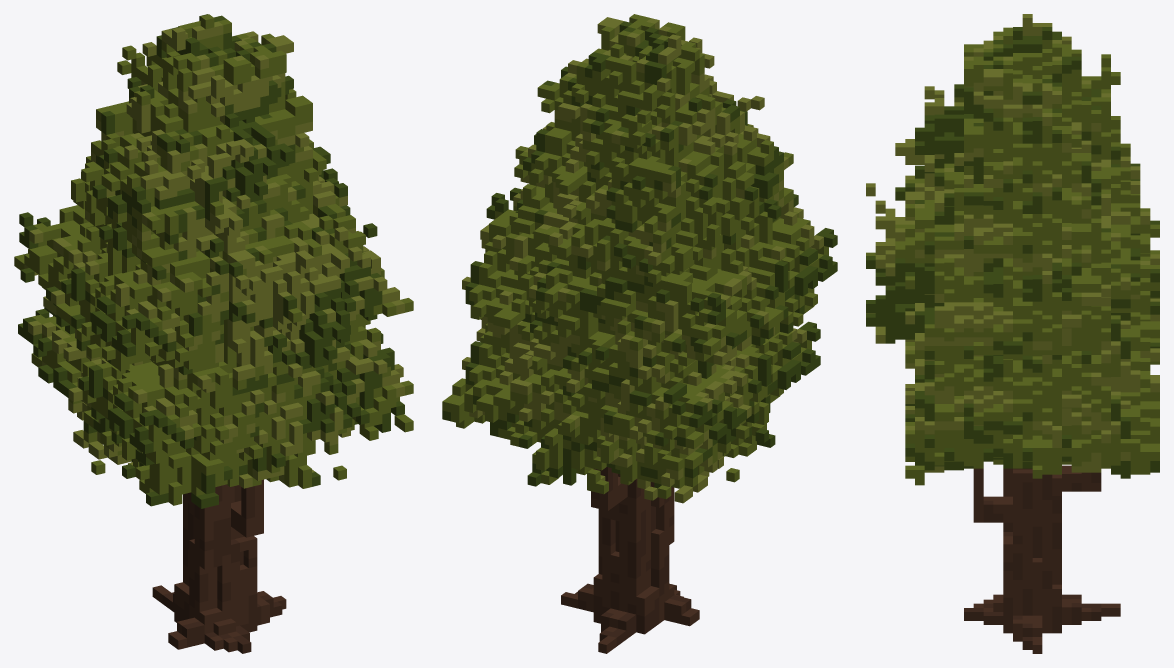
Rendered from Hospital-33.obj.
The picture shows the model from 3 angles, left to right: view 1: azimuth 30°, elevation 25°; view 2: azimuth 150°, elevation 25°; view 3: azimuth 270°, elevation 25°; orthographic projection. The views are drawn at different scales.
Bounding box in the file's own units: 3.2 × 6.6 × 3.
Materials: 1 (1 with a texture image).
